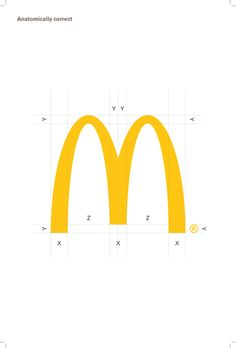mcdonalds: (47, 112, 187, 231)
